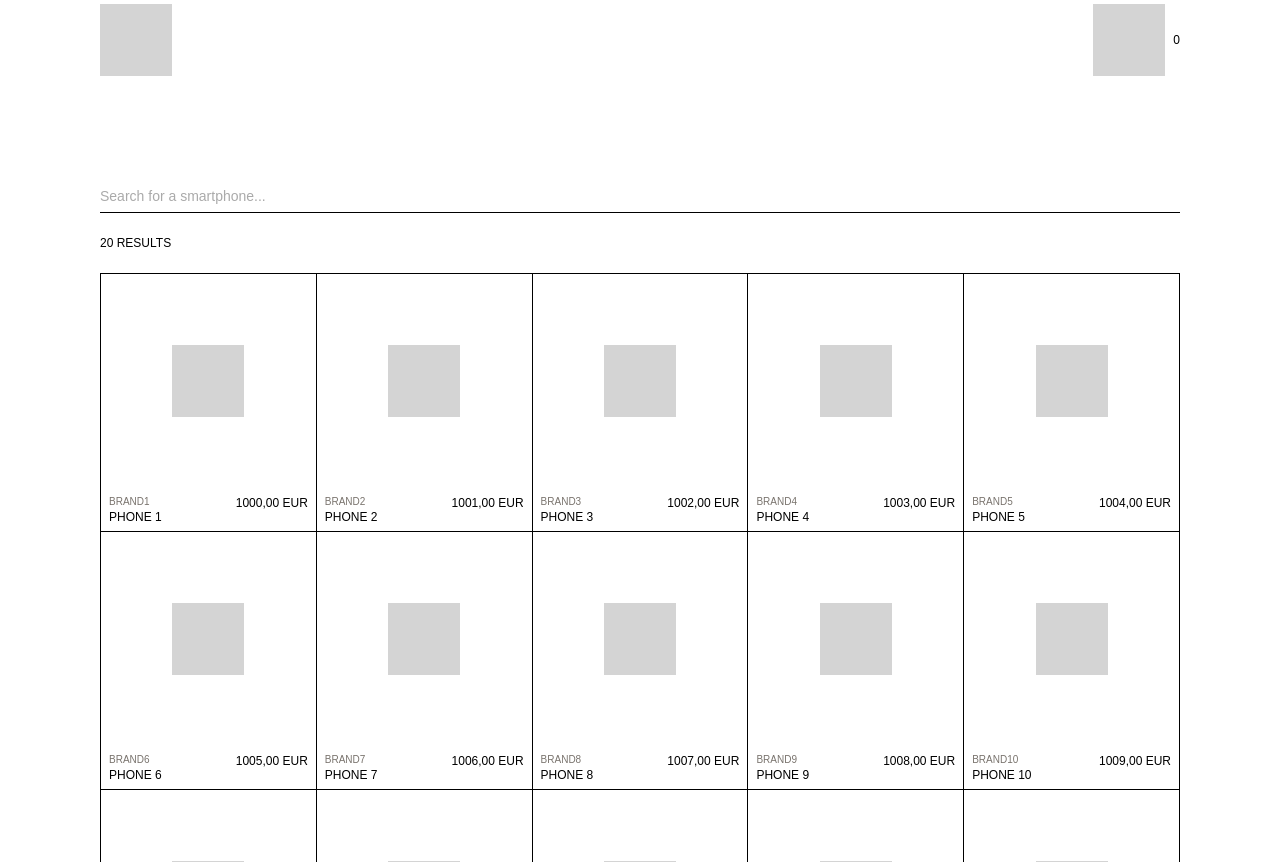
Test: catalog search › sends one debounced request for rapid typing
The image size is (1280, 862).
expect the text "20 RESULTS" is shown: met, box [100,236,171,250]
In the search field: (640, 196) [100,180,1180,213], type "sam"
Wait 300 ms
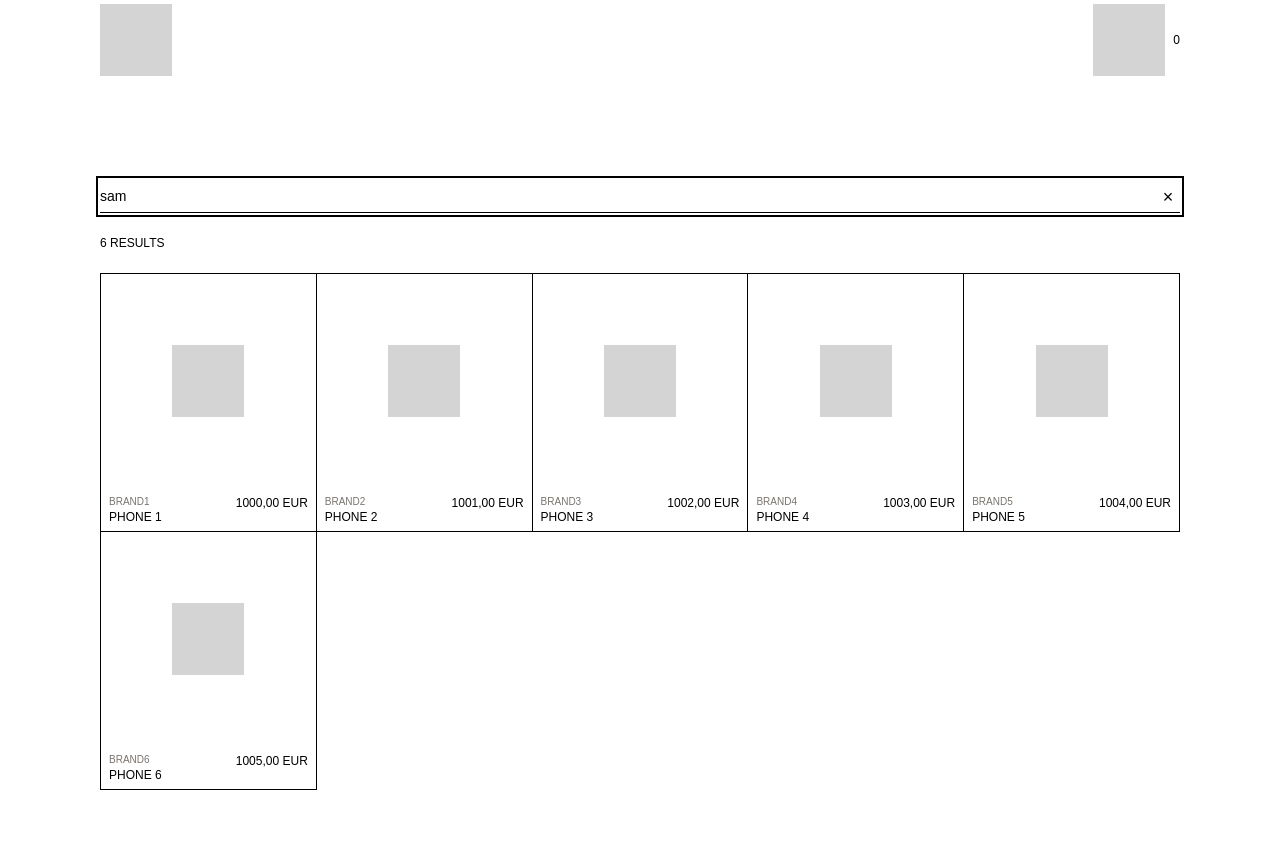
expect the text "6 RESULTS" is shown: met, box [100,236,164,250]
